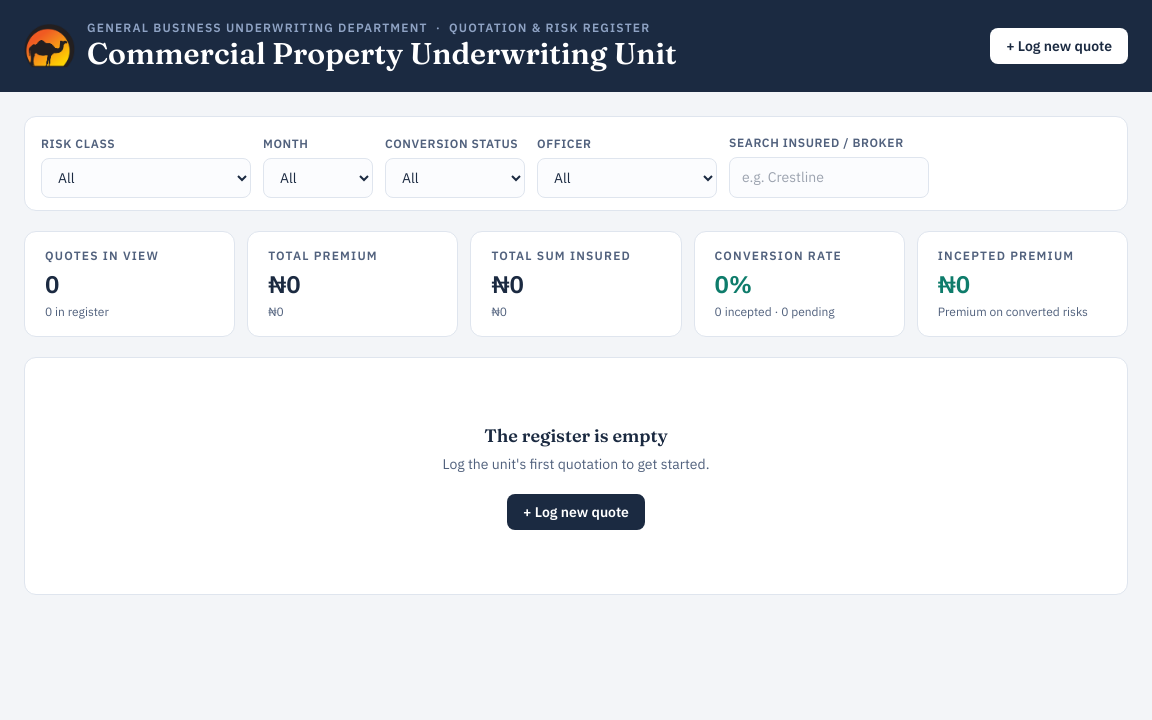
Test case: UnitRegister › blocks submission and shows an error when required fields are missing
This screenshot has width=1152, height=720.
Click the button "+ Log new quote" in the row of "Commercial Property Underwriting Unit": (1059, 46) [990,28,1128,64]
(page scrolled)
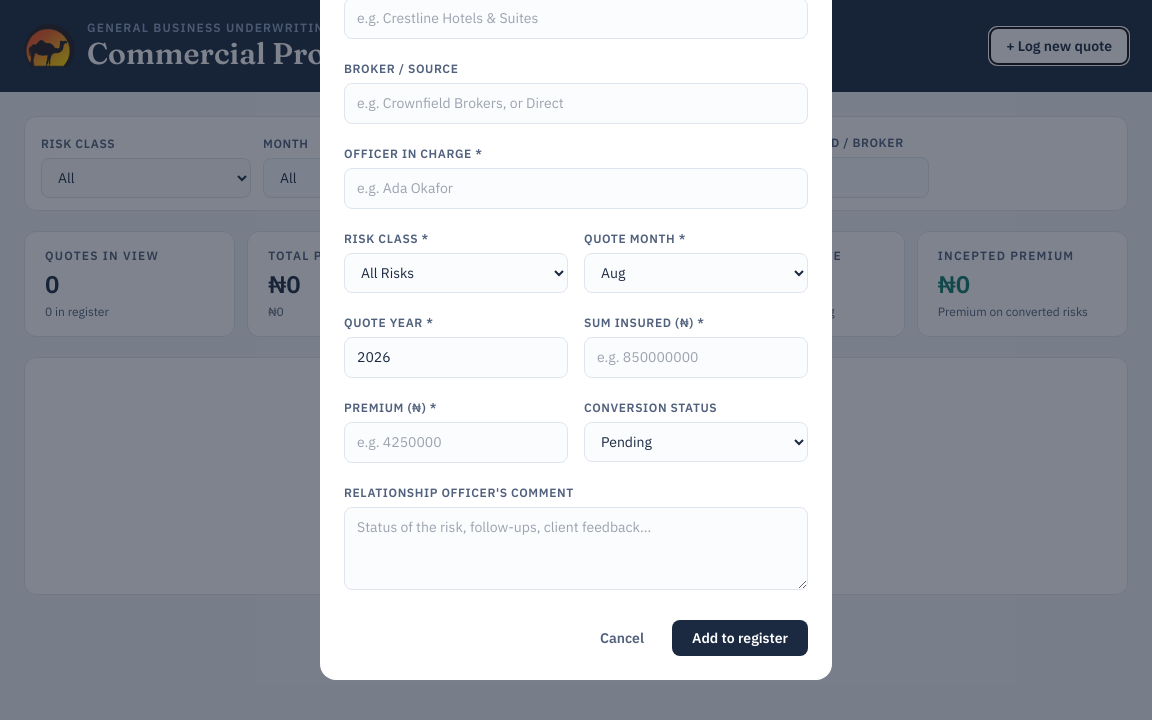
Click the button "Add to register": (740, 638) [672,620,808,656]
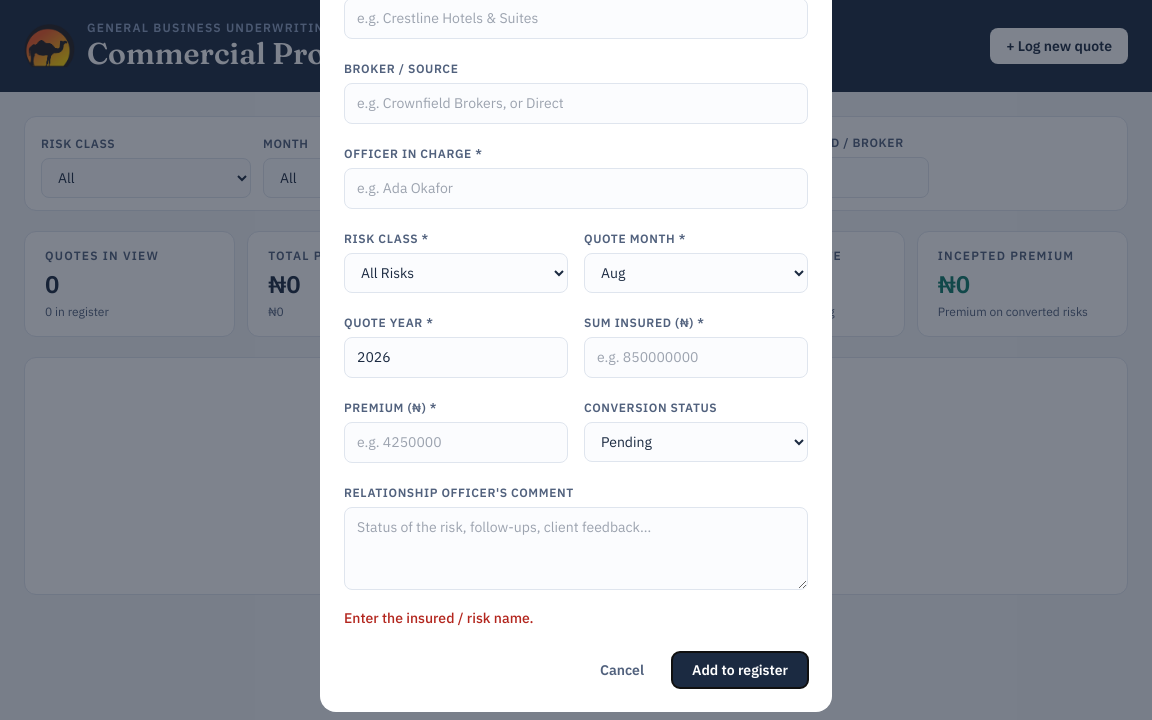
Now the message shows "insured", box [344,609,534,627]
